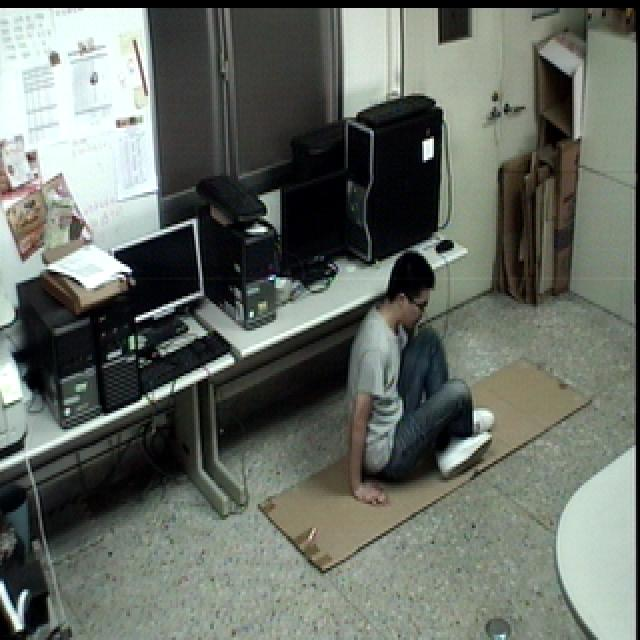sit: (338, 244, 503, 511)
